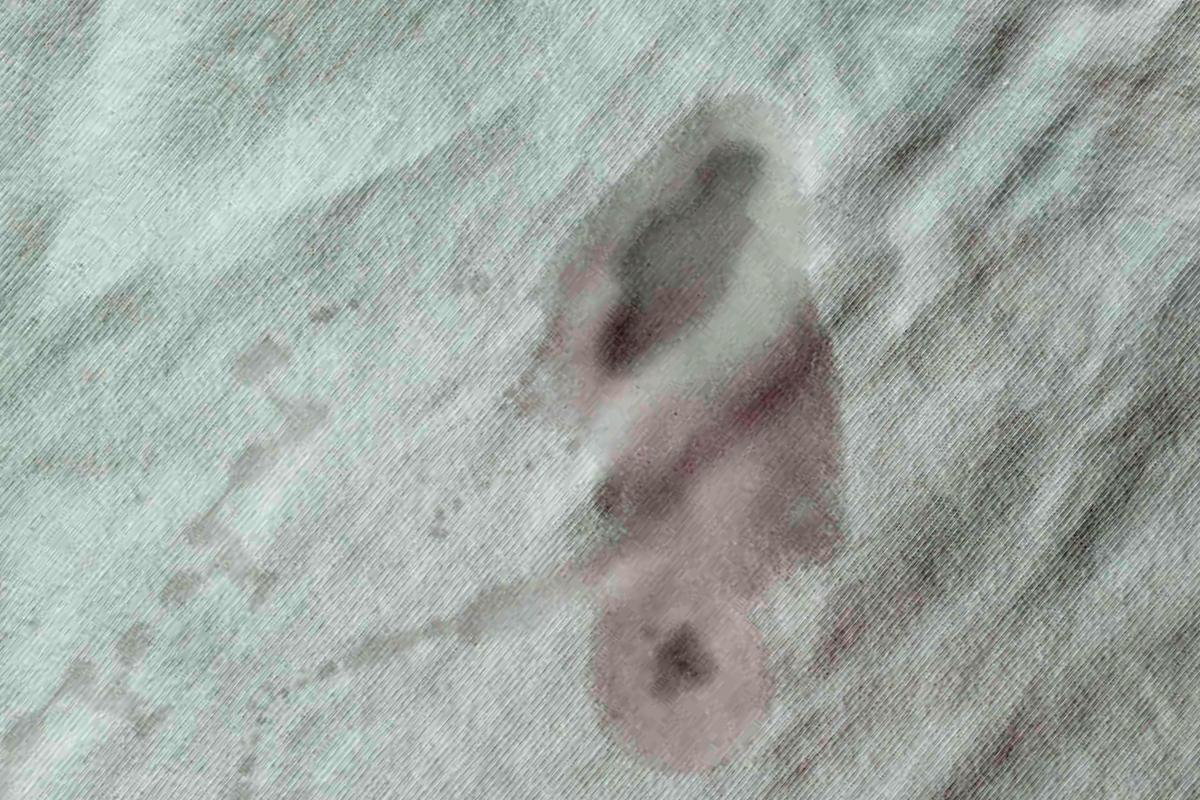stain: (503, 85, 873, 783)
